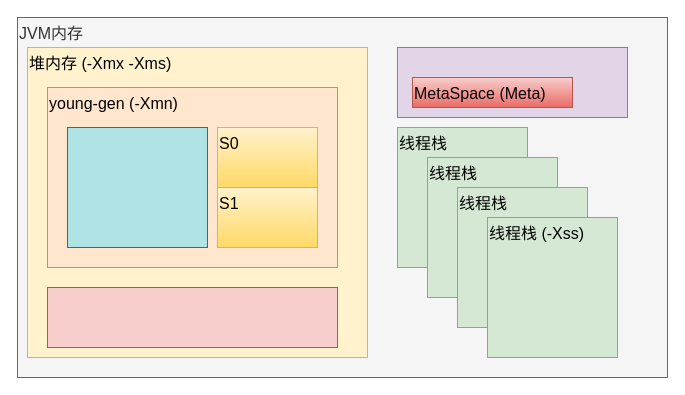
The diagram is 685 pixels wide and 395 high, and some of its shapes have lost their labels. The shapes that lost their labels are listed below. From the top down, each one's box as (x1, y1, x2, y2) in pixels, then its label:
(396, 46, 628, 118): 非堆 (DirectMemory)
(66, 126, 208, 248): Eden-Space
(46, 286, 338, 348): old-gen
